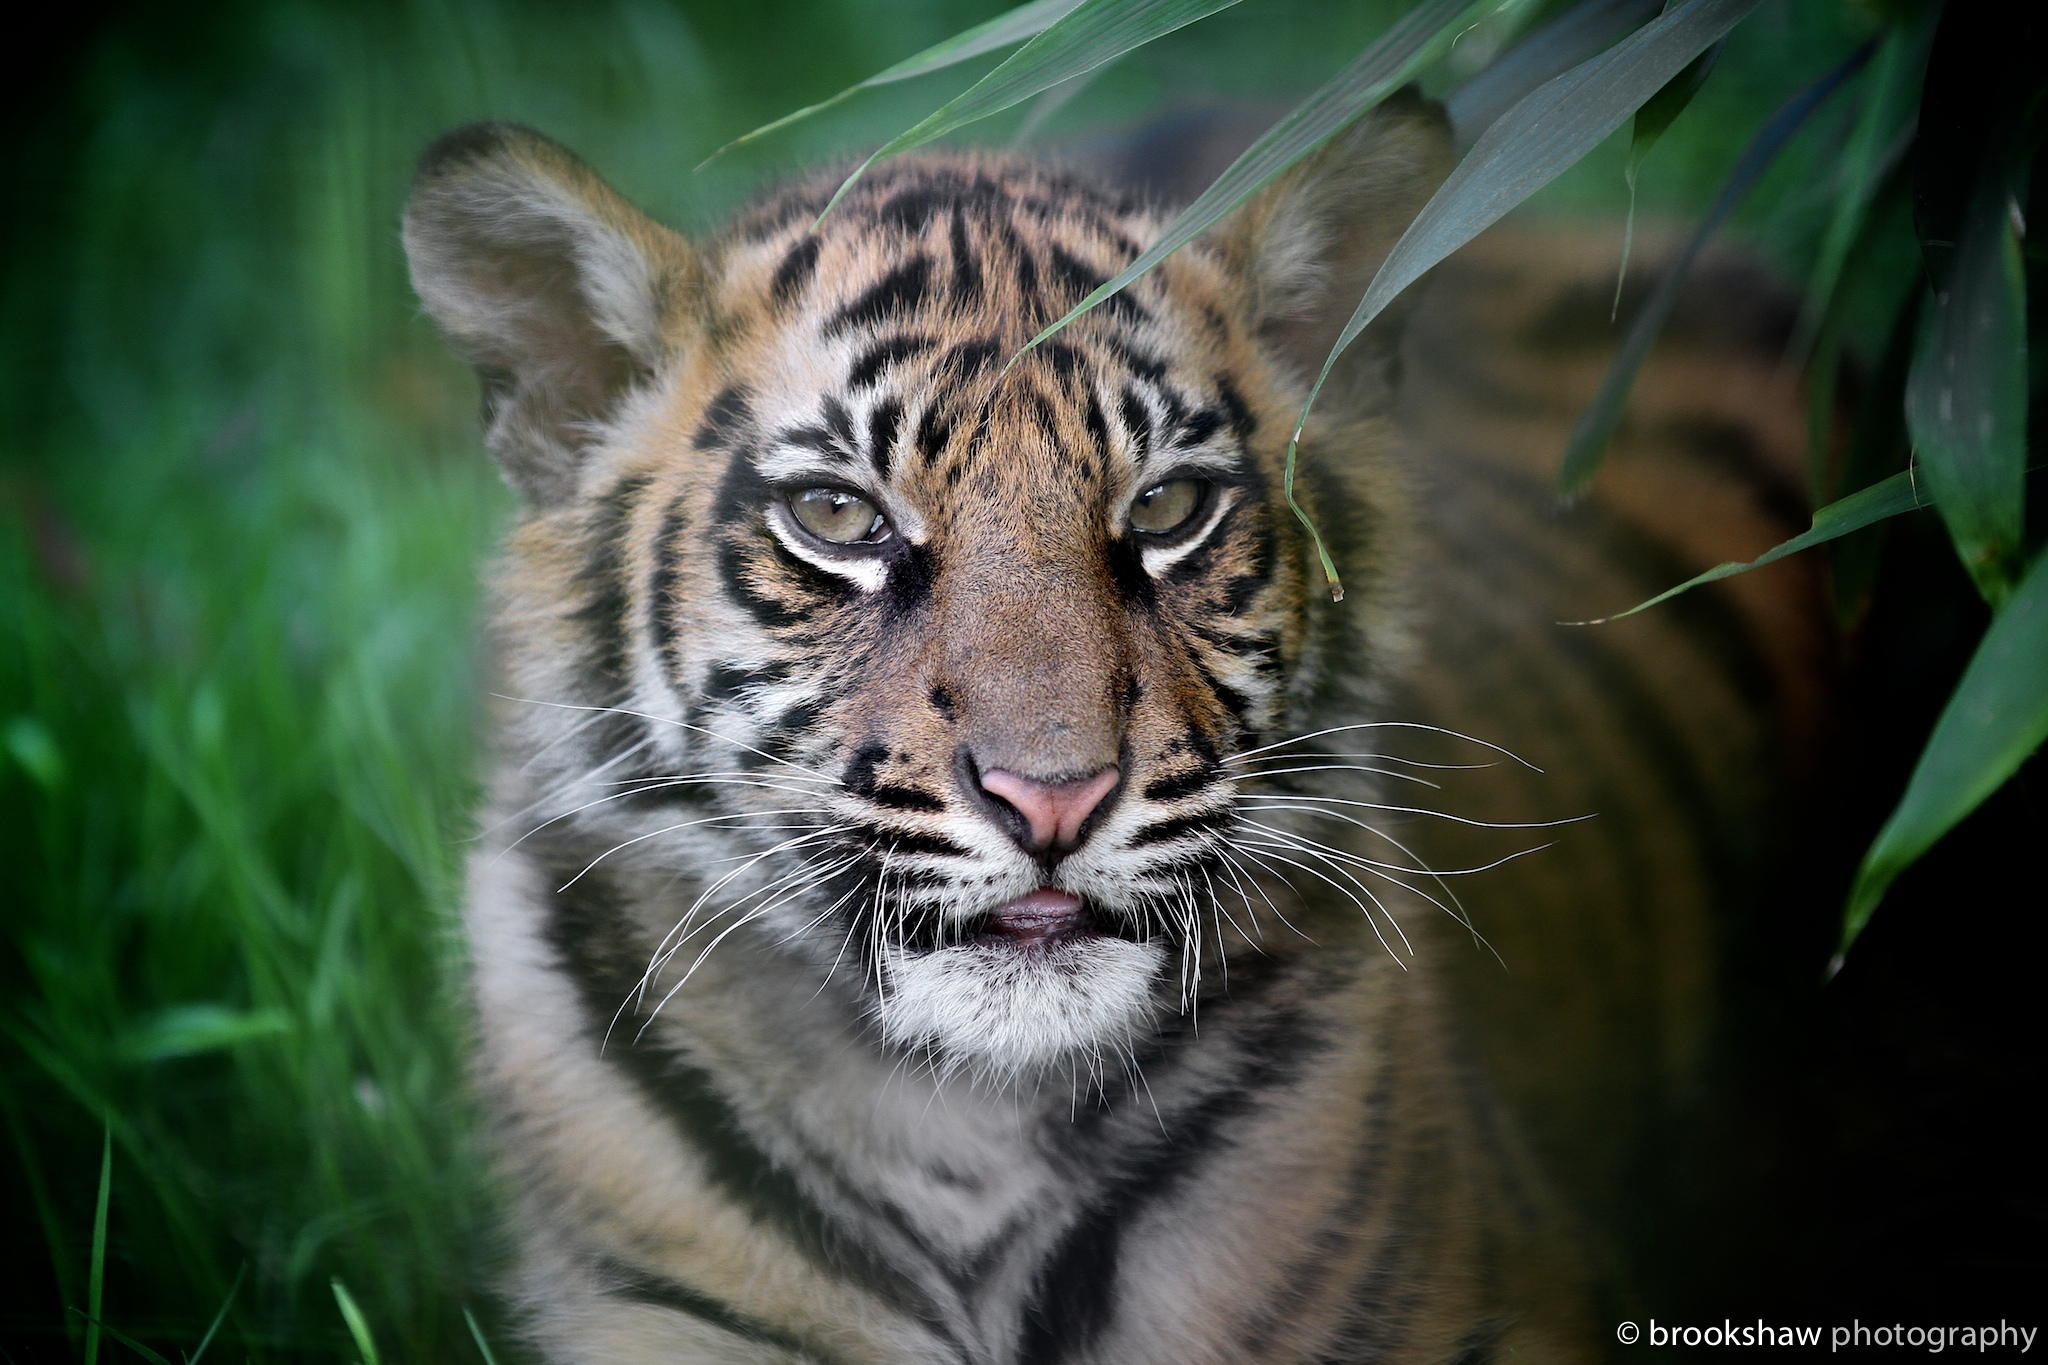tiger: (358, 75, 1766, 1267)
